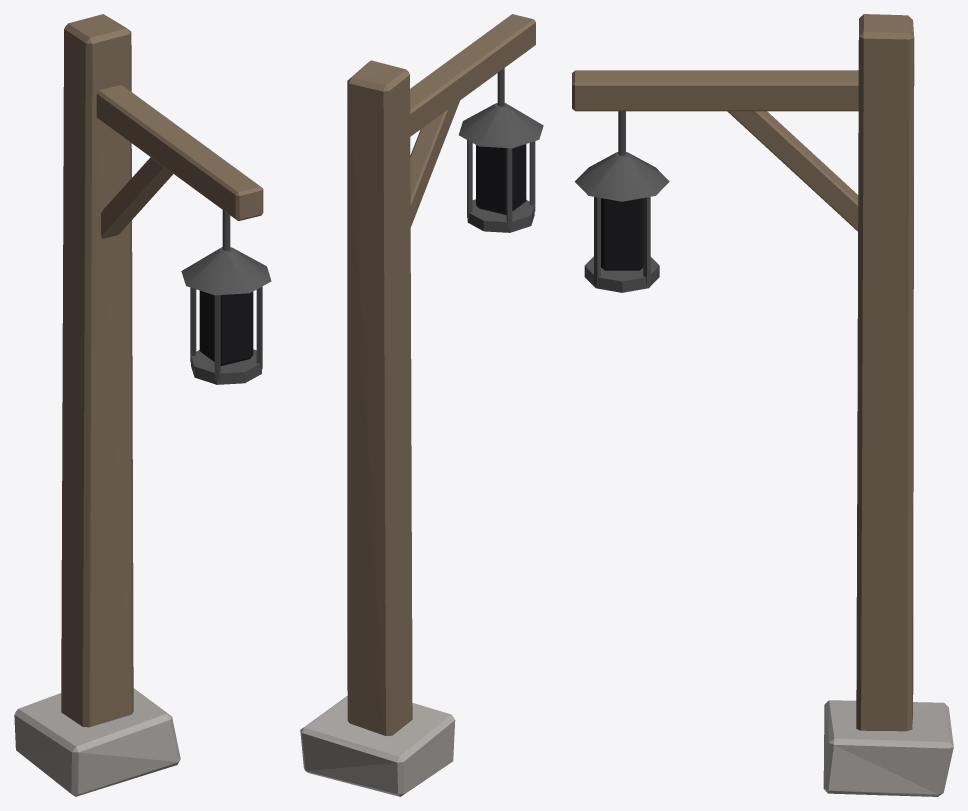
File: post_lantern.glb
3 views of the same model, side by side, from view 1: azimuth 30°, elevation 25°; view 2: azimuth 150°, elevation 25°; view 3: azimuth 270°, elevation 25° (orthographic). The views are drawn at different scales.
Parts seen in each view (by area): view 1: wood, stone, iron, void; view 2: wood, stone, iron, void; view 3: wood, stone, iron, void.
Part boxes in pixels (box(x1,y1,x2,y2)): wood: box(61, 14, 263, 727); stone: box(14, 688, 180, 796); iron: box(181, 210, 271, 384); void: box(199, 290, 253, 365); wood: box(347, 14, 535, 736); stone: box(300, 696, 455, 796); iron: box(458, 68, 543, 232); void: box(476, 144, 526, 215); wood: box(572, 14, 914, 731); stone: box(823, 700, 953, 796); iron: box(574, 111, 669, 292); void: box(601, 198, 643, 270).
Size of the model in its own units: 0.5159 by 3.32 by 1.52.
